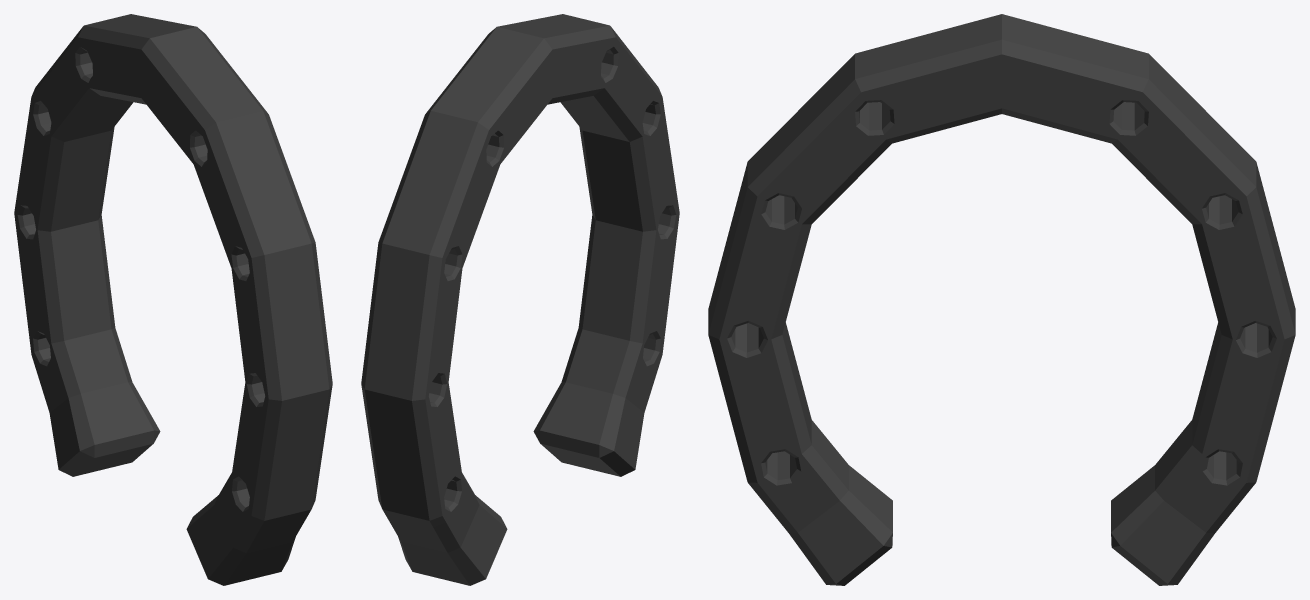
Rendered from HerraduraNormal.fbx.
3 renders of one model, left to right at view 1: azimuth 30°, elevation 25°; view 2: azimuth 150°, elevation 25°; view 3: azimuth 270°, elevation 25°, orthographic. The views are drawn at different scales.
Visible parts, largest first — view 1: Herradura; view 2: Herradura; view 3: Herradura.
Part boxes in pixels (x1,y1,x2,y2): Herradura: [14, 14, 332, 585]; Herradura: [361, 14, 679, 585]; Herradura: [708, 14, 1295, 585].
Bounding box in the file's own units: 3.79 × 22 × 21.56.
